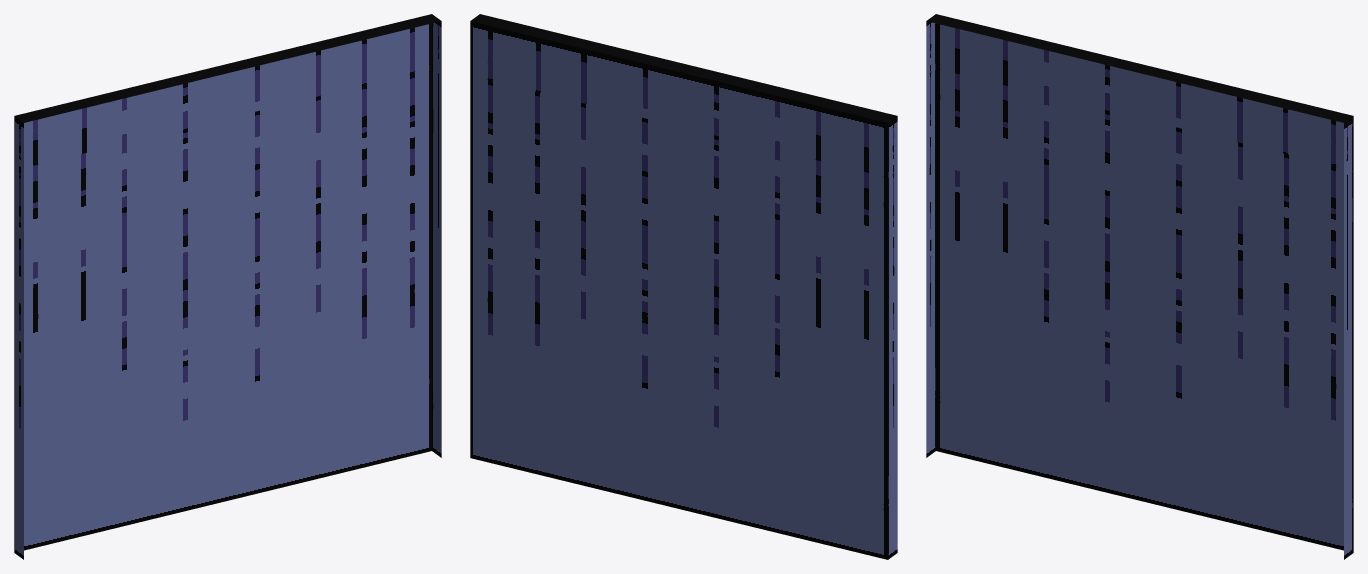
Rendered from Wall_PodA.glb.
3 renders of one model, left to right at view 1: azimuth 30°, elevation 25°; view 2: azimuth 150°, elevation 25°; view 3: azimuth 330°, elevation 25°, orthographic.
Visible parts, largest first — view 1: Wall_PodA; view 2: Wall_PodA; view 3: Wall_PodA.
Boxes of the visible parts, left/top/right/bottom form: Wall_PodA: left=14, top=14, right=441, bottom=559; Wall_PodA: left=470, top=14, right=897, bottom=559; Wall_PodA: left=926, top=14, right=1353, bottom=559.
Size of the model in its own units: 5 by 5 by 0.2.
Materials: 1 (1 with a texture image).
